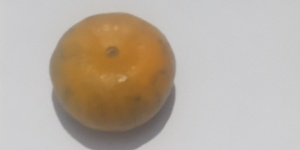BAD: (51, 13, 176, 128)
